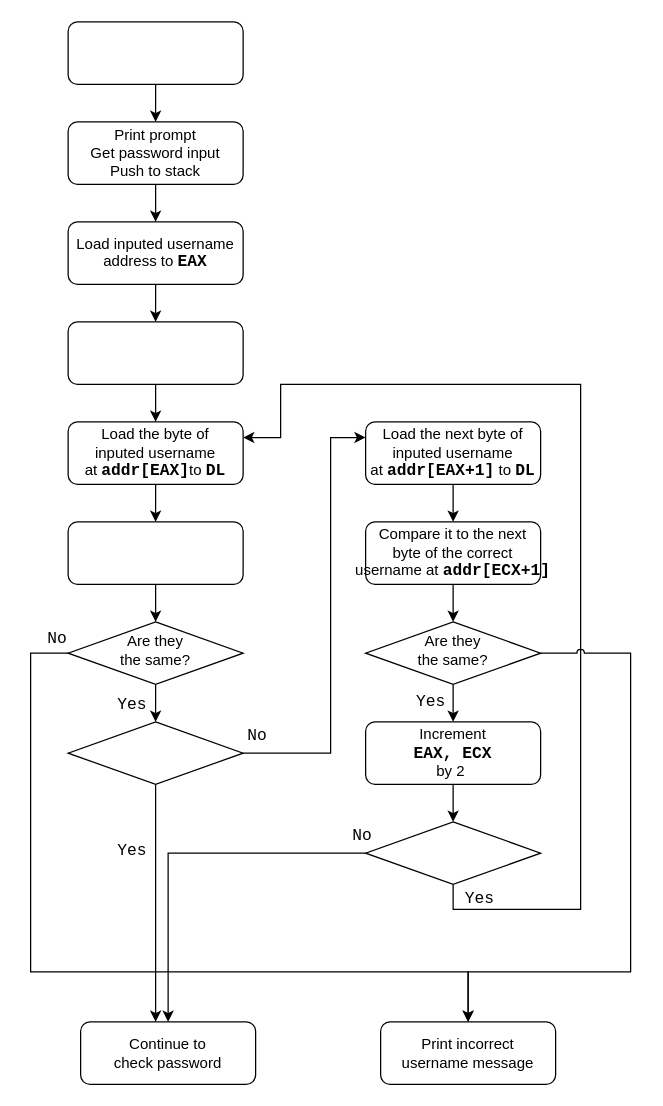
Image size: 663x1106. Some labels were removed from this diagram. Each missing label, with the centre of its shape:
"Compare it to the same byte of the correct username at addr[ECX]" goes at point 155,552.
"Is DL NOT zero? (Not at the end)" goes at point 452,852.
"Is DL zero? (Reached the end)" goes at point 155,752.
"Load correct username address to ECX" goes at point 155,352.
"Print prompt Get username input Push to stack" goes at point 155,52.
